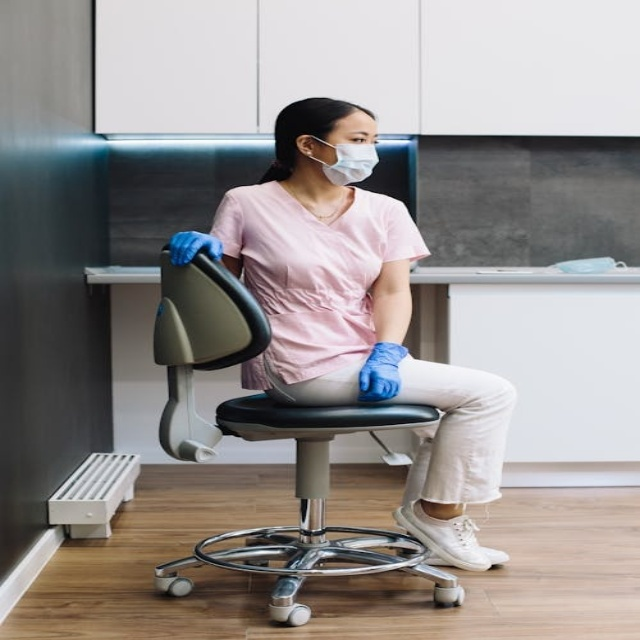Guantes: (357, 341, 408, 400), (168, 230, 223, 267)
Mascara: (305, 135, 379, 185)
Sin_gafas: (332, 129, 381, 142)
